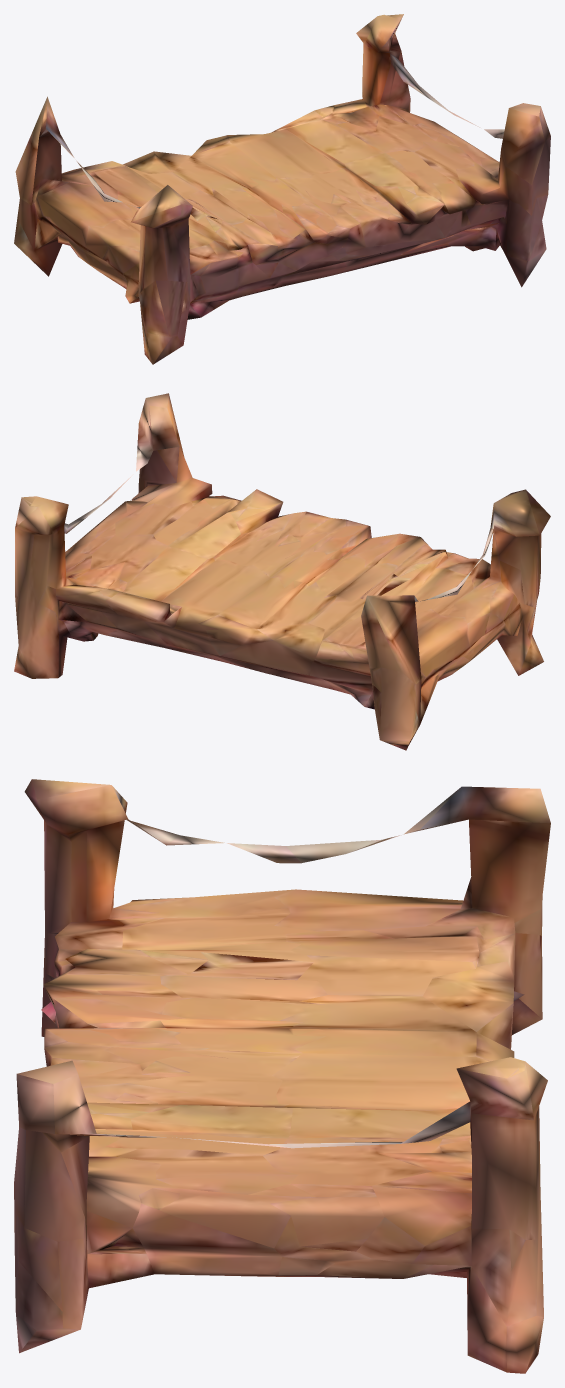
Rendered from dock_pier.glb.
3 renders of one model, top to bottom at view 1: azimuth 30°, elevation 25°; view 2: azimuth 150°, elevation 25°; view 3: azimuth 270°, elevation 25°, orthographic. The views are drawn at different scales.
Visible parts, largest first — view 1: tripo_node_d770e925-8cdd-4fc8-a136-5dac83095d60; view 2: tripo_node_d770e925-8cdd-4fc8-a136-5dac83095d60; view 3: tripo_node_d770e925-8cdd-4fc8-a136-5dac83095d60.
Part boxes in pixels (x1,y1,x2,y2): tripo_node_d770e925-8cdd-4fc8-a136-5dac83095d60: (14, 14, 550, 364); tripo_node_d770e925-8cdd-4fc8-a136-5dac83095d60: (14, 393, 550, 750); tripo_node_d770e925-8cdd-4fc8-a136-5dac83095d60: (14, 779, 550, 1373).
Size of the model in its own units: 0.9654 by 0.3838 by 0.6325.
1 material, 1 textured.
